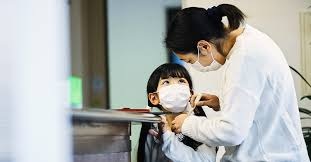with-mask: (161, 5, 232, 76), (143, 63, 195, 117)
